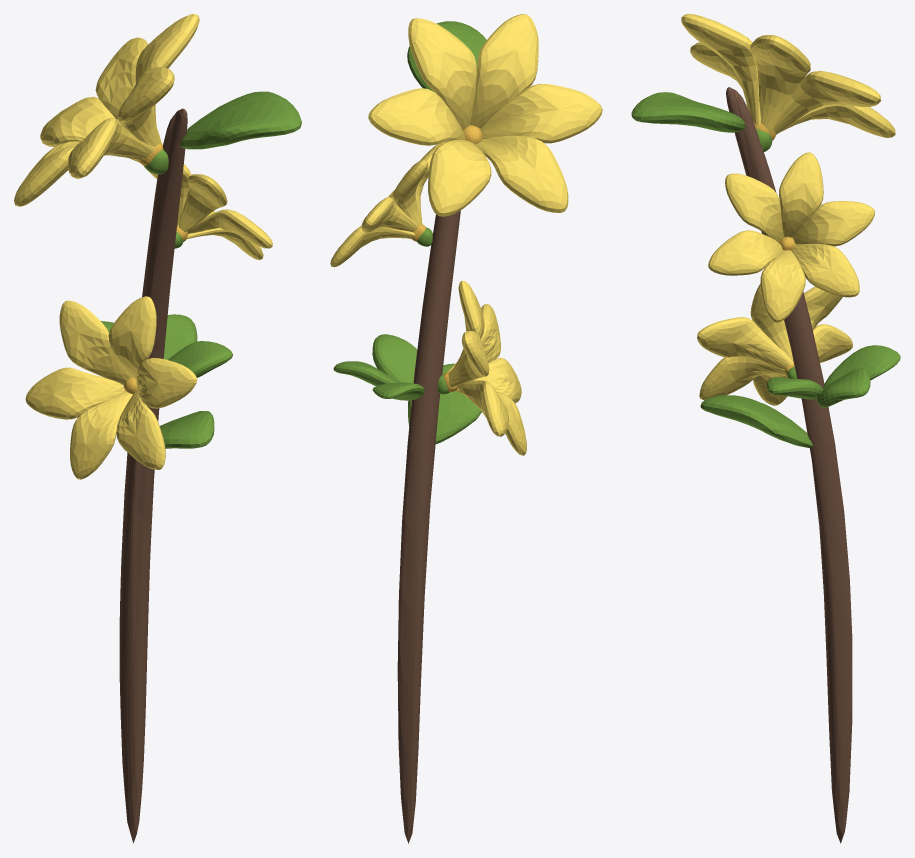
File: Gratitude_ychwa.glb
The picture shows the model from 3 angles, left to right: view 1: azimuth 30°, elevation 25°; view 2: azimuth 150°, elevation 25°; view 3: azimuth 270°, elevation 25°; orthographic projection. The views are drawn at different scales.
Parts seen in each view (by area): view 1: Cube.005; view 2: Cube.005; view 3: Cube.005.
Part boxes in pixels (<box>): Cube.005: <box>14,14,301,843</box>; Cube.005: <box>330,14,602,843</box>; Cube.005: <box>631,14,900,843</box>.
Bounding box in the file's own units: 5.28 × 17.86 × 5.32.
